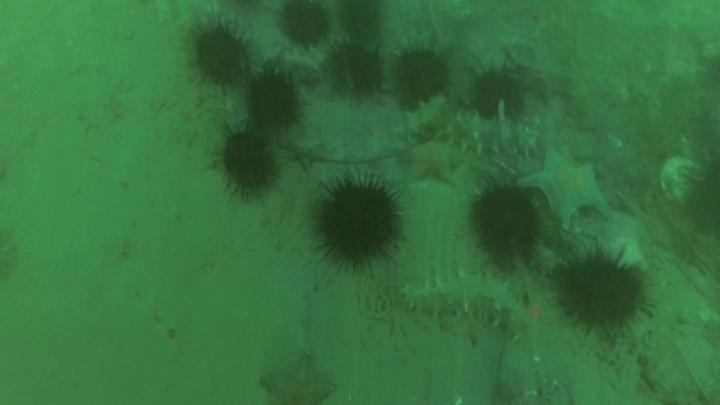echinus: (311, 174, 406, 269), (554, 248, 649, 334), (467, 182, 544, 263), (184, 19, 254, 89), (214, 128, 281, 198), (392, 45, 452, 105), (244, 70, 303, 131), (467, 65, 529, 123), (325, 38, 386, 96), (680, 150, 720, 238), (277, 1, 333, 48), (336, 1, 387, 42)
holothurian: (397, 269, 532, 342), (428, 109, 541, 160), (258, 48, 326, 86), (399, 93, 451, 141)
scallop: (577, 208, 654, 273), (657, 153, 703, 205)
starfish: (518, 144, 611, 230), (257, 352, 338, 404), (505, 46, 573, 105), (399, 139, 466, 188), (516, 292, 551, 325)
